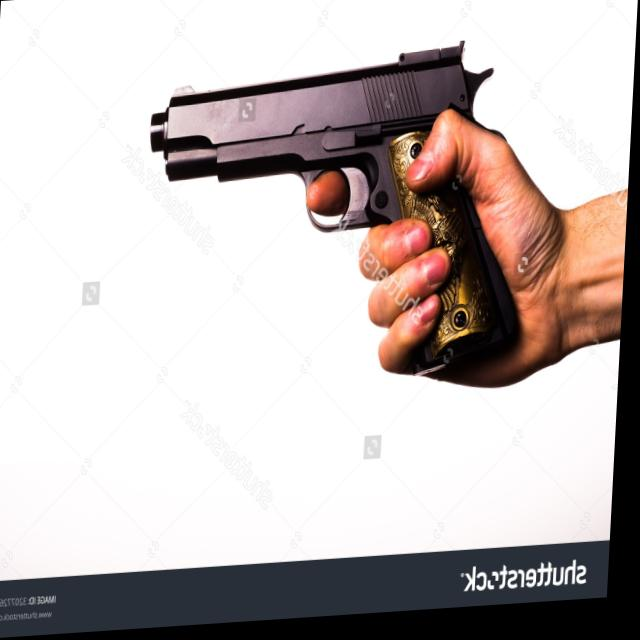handgun: (139, 39, 531, 393)
